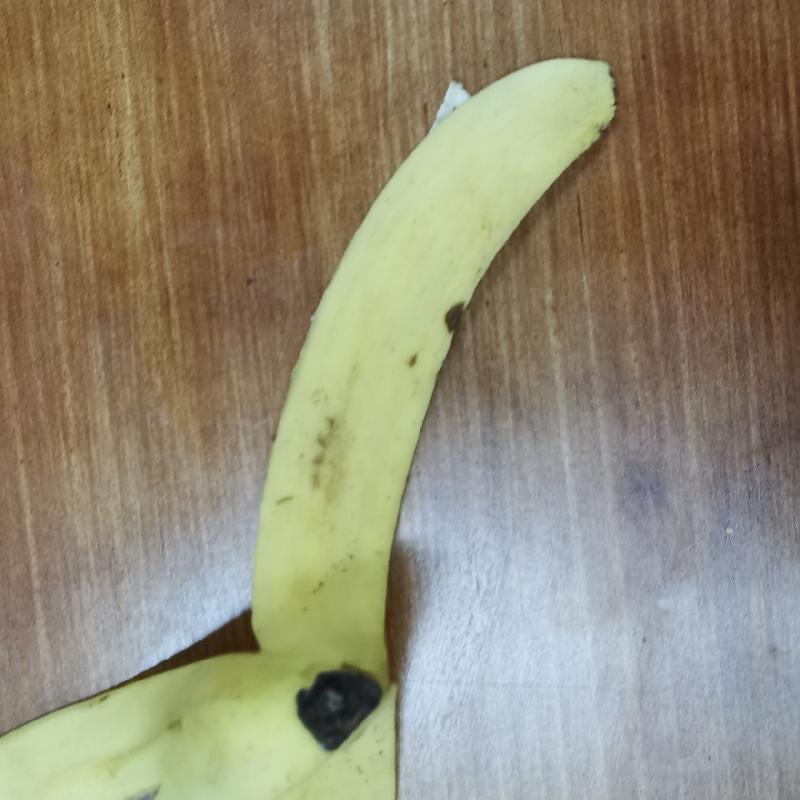bananas: (0, 56, 618, 798)
